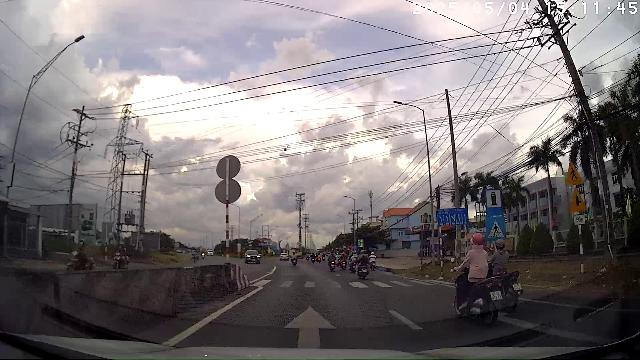423a-duong-nguoi-di-bo-sang-ngang-1: (485, 216, 506, 239)
